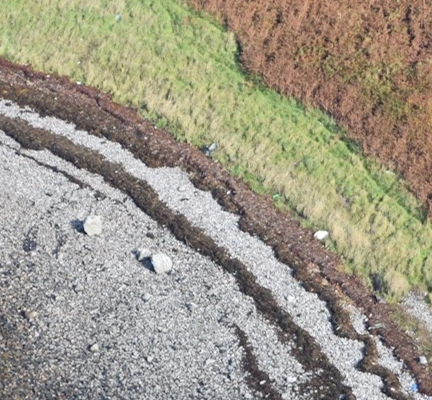white_in_green: (296, 208, 352, 262), (184, 128, 240, 172)
